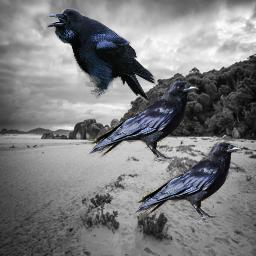Crow: (46, 8, 156, 103), (87, 78, 200, 165), (133, 139, 243, 224)
